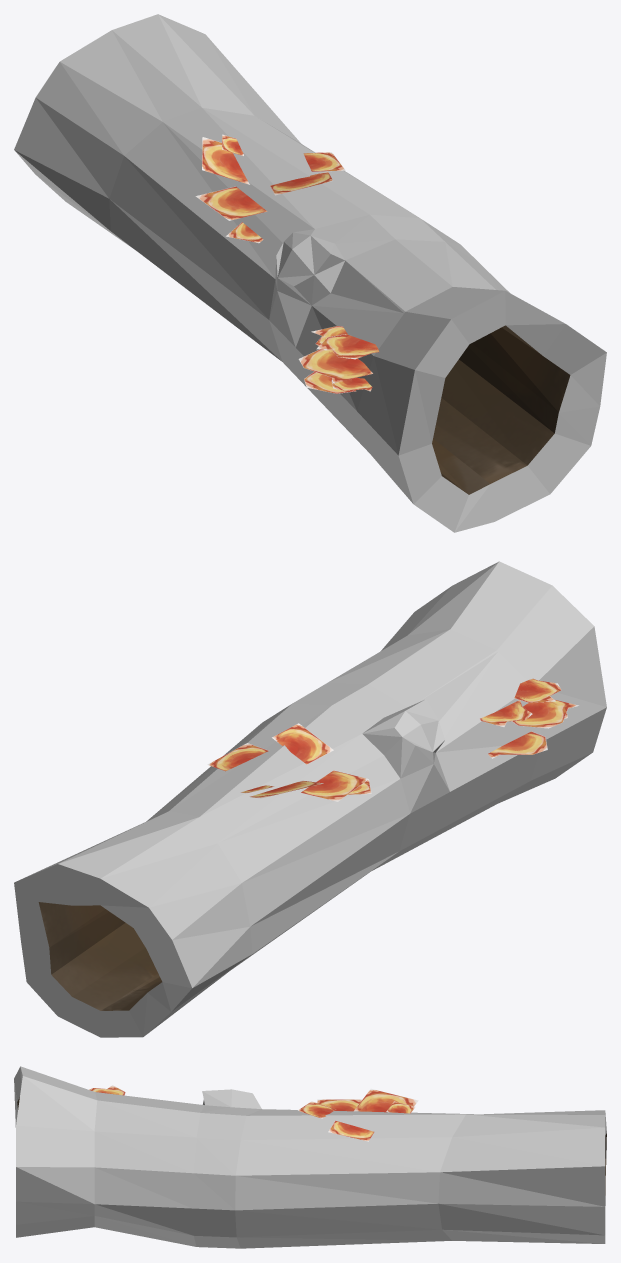
Rendered from log.fbx.
3 renders of one model, top to bottom at view 1: azimuth 30°, elevation 25°; view 2: azimuth 150°, elevation 25°; view 3: azimuth 270°, elevation 25°, orthographic. The views are drawn at different scales.
Visible parts, largest first — view 1: pCylinder11; view 2: pCylinder11; view 3: pCylinder11.
Part boxes in pixels (bbox=[...]): pCylinder11: bbox=[14, 14, 606, 532]; pCylinder11: bbox=[14, 561, 606, 1037]; pCylinder11: bbox=[14, 1066, 606, 1248].
Bounding box in the file's own units: 52.33 × 44.88 × 152.
